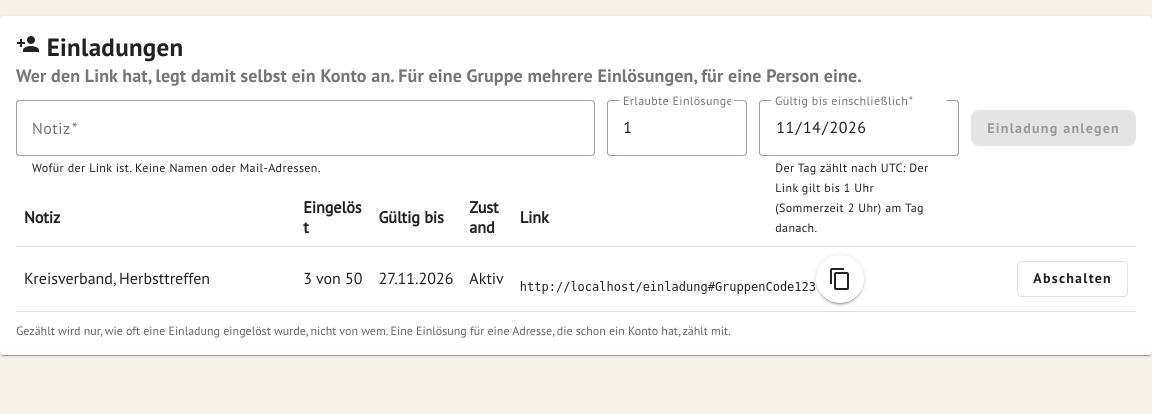
Scenario: EinladungenComponent › meldet, wenn Umschalten scheitert, ohne die Liste zu verlieren
Click the button with test id "schalten": click(1073, 279) 1017,261 -> 1128,297
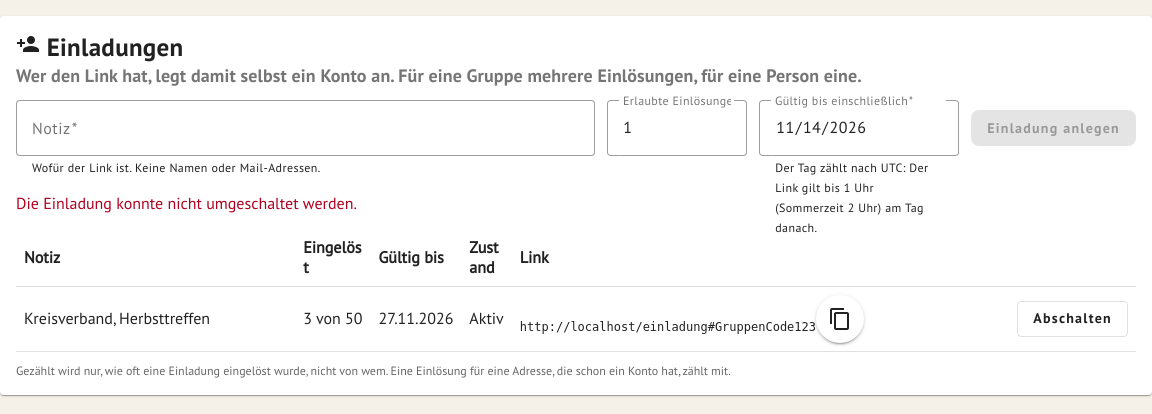
Expected: the number of rows with test id "einladung" is 1, 16,286 -> 1136,351
Result: the text "nicht umgeschaltet" is shown at 16,195 -> 357,213
